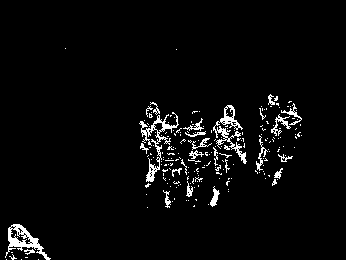person: (212, 104, 246, 209), (138, 101, 168, 204), (182, 110, 213, 203), (158, 111, 184, 209), (275, 99, 302, 190), (258, 92, 282, 177)
